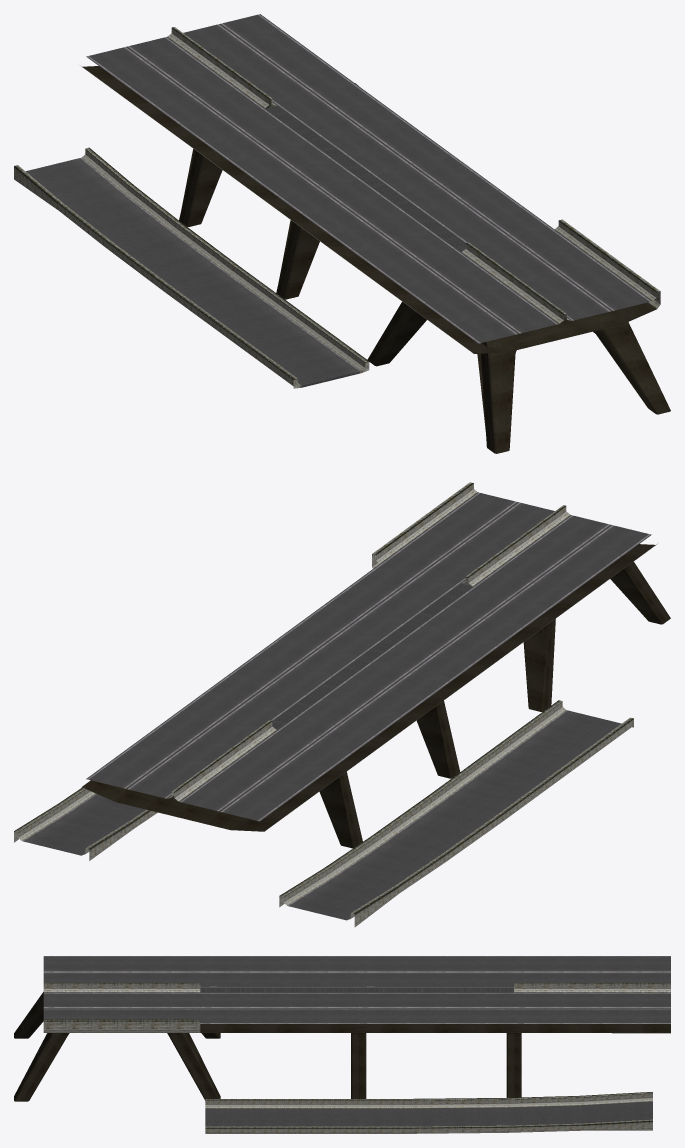
The model's file is roadssfse06.obj.
The picture shows the model from 3 angles, top to bottom: view 1: azimuth 30°, elevation 25°; view 2: azimuth 150°, elevation 25°; view 3: azimuth 270°, elevation 25°; orthographic projection. The views are drawn at different scales.
Visible parts, largest first — view 1: roadsSFSE06; view 2: roadsSFSE06; view 3: roadsSFSE06.
Boxes of the visible parts, left/top/right/bottom form: roadsSFSE06: left=14, top=14, right=670, bottom=453; roadsSFSE06: left=14, top=482, right=670, bottom=927; roadsSFSE06: left=14, top=956, right=670, bottom=1133.
Size of the model in its own units: 50.43 by 15.23 by 105.
Materials: 3 (3 with a texture image).
